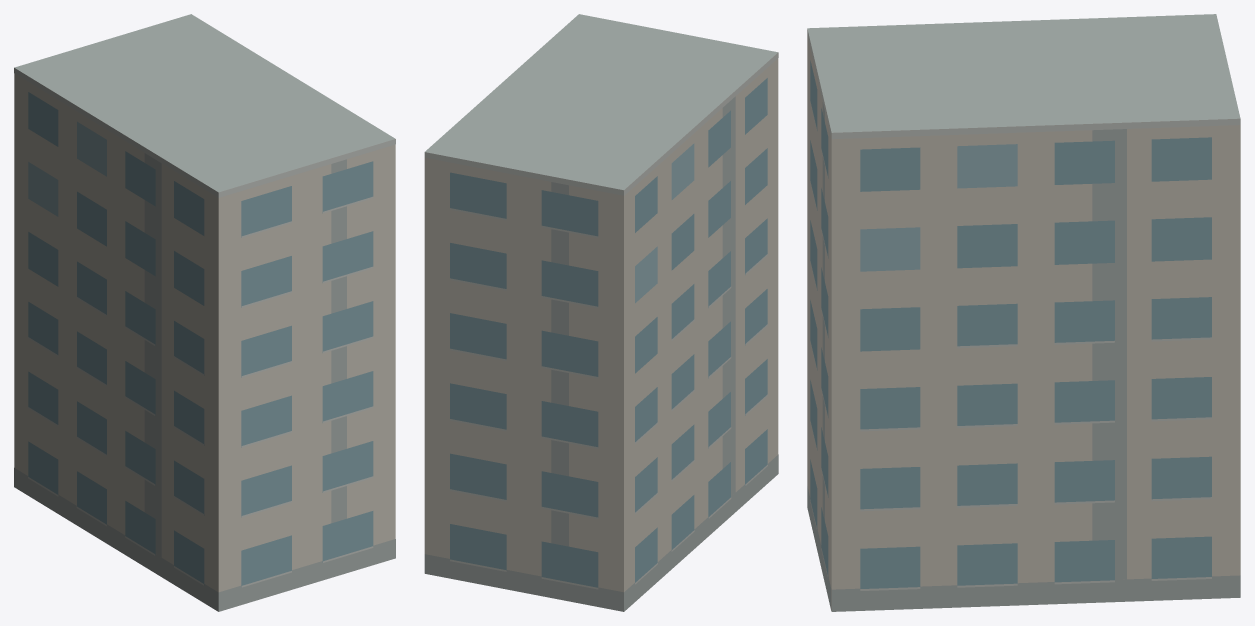
Rendered from survey-upis-32871544.glb.
3 renders of one model, left to right at view 1: azimuth 30°, elevation 25°; view 2: azimuth 150°, elevation 25°; view 3: azimuth 270°, elevation 25°, orthographic. The views are drawn at different scales.
Visible parts, largest first — view 1: survey-upis-32871544.tmp; view 2: survey-upis-32871544.tmp; view 3: survey-upis-32871544.tmp.
Part boxes in pixels (x1=…): survey-upis-32871544.tmp: x1=14, y1=14, x2=395, y2=611; survey-upis-32871544.tmp: x1=424, y1=14, x2=778, y2=611; survey-upis-32871544.tmp: x1=807, y1=14, x2=1240, y2=611.
Size of the model in its own units: 9.75 by 18.3 by 15.01.
